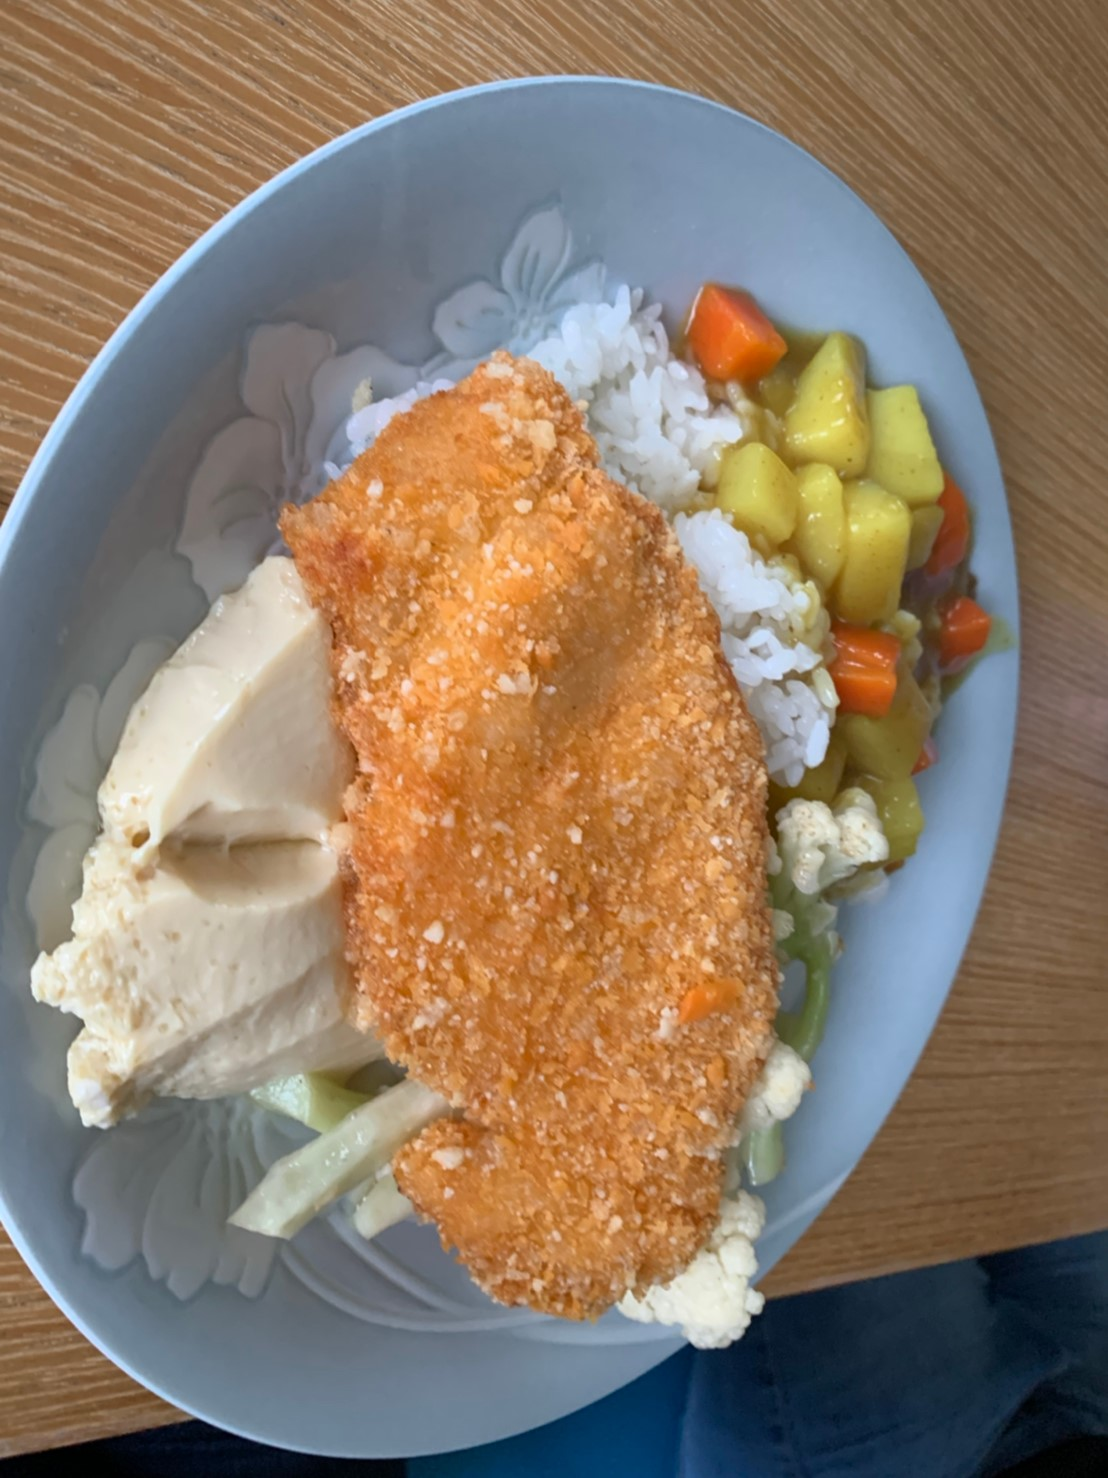curry: (687, 277, 999, 890)
fried_chicken: (318, 337, 780, 1291)
rice: (339, 294, 832, 790)
